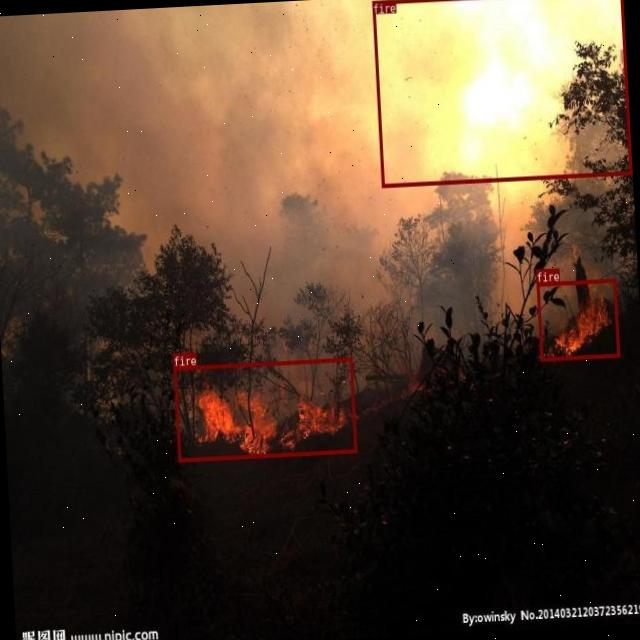fire: (371, 0, 631, 186), (173, 358, 357, 462), (536, 278, 620, 360)
